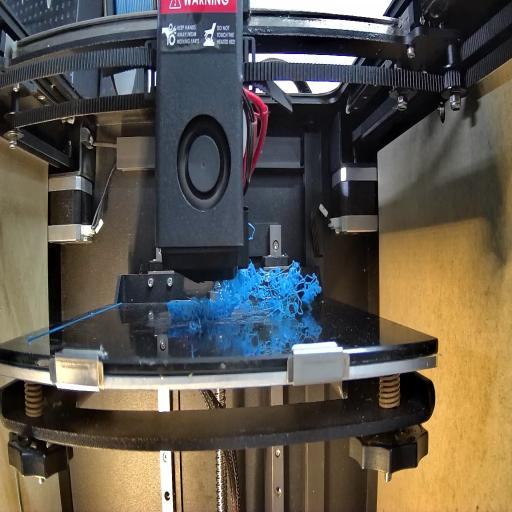spaghetti: (224, 268, 318, 317), (176, 296, 213, 332)
